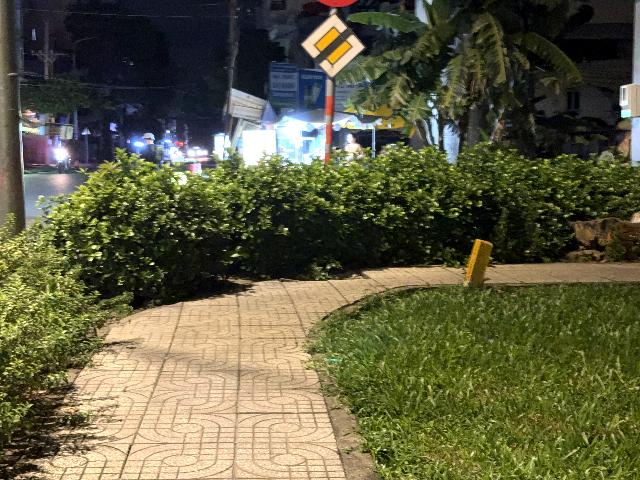het-duong-uu-tien: (299, 13, 367, 79)
